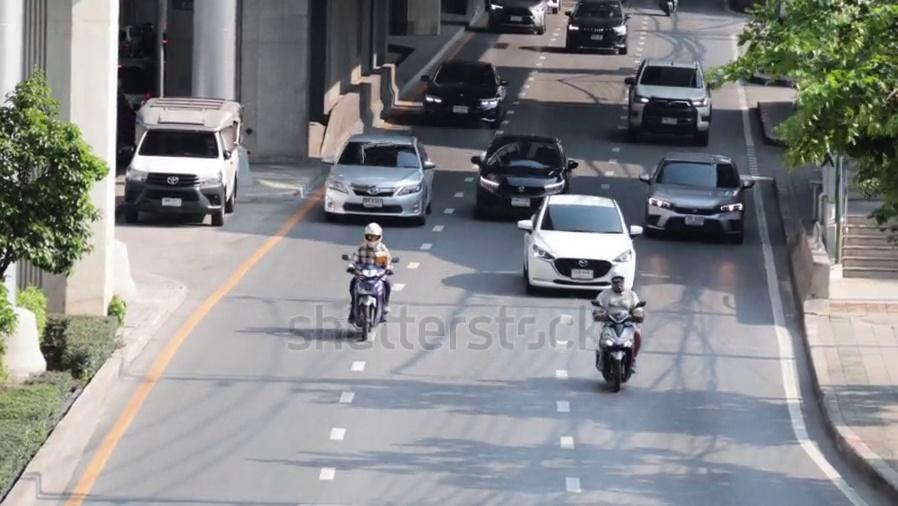rider: (591, 271, 645, 372), (345, 221, 394, 324)
with_helmate: (360, 225, 384, 244), (609, 274, 626, 291)
